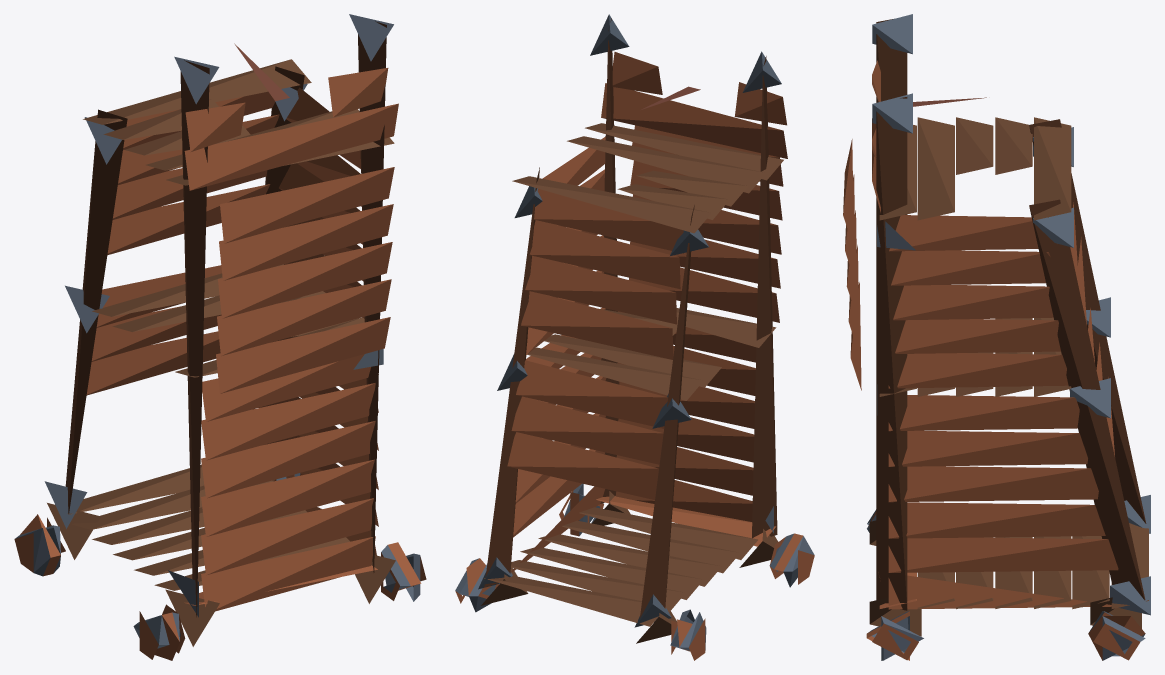
The model's file is siege-tower-b.lod2.glb.
3 renders of one model, left to right at view 1: azimuth 30°, elevation 25°; view 2: azimuth 150°, elevation 25°; view 3: azimuth 270°, elevation 25°, orthographic. The views are drawn at different scales.
Parts seen in each view (by area): view 1: Cube.128_WoodBeam_0; view 2: Cube.128_WoodBeam_0; view 3: Cube.128_WoodBeam_0.
Boxes of the visible parts, left/top/right/bottom form: Cube.128_WoodBeam_0: left=14, top=14, right=426, bottom=660; Cube.128_WoodBeam_0: left=455, top=14, right=814, bottom=660; Cube.128_WoodBeam_0: left=843, top=14, right=1150, bottom=660.
Bounding box in the file's own units: 5.93 × 12.42 × 6.35.
